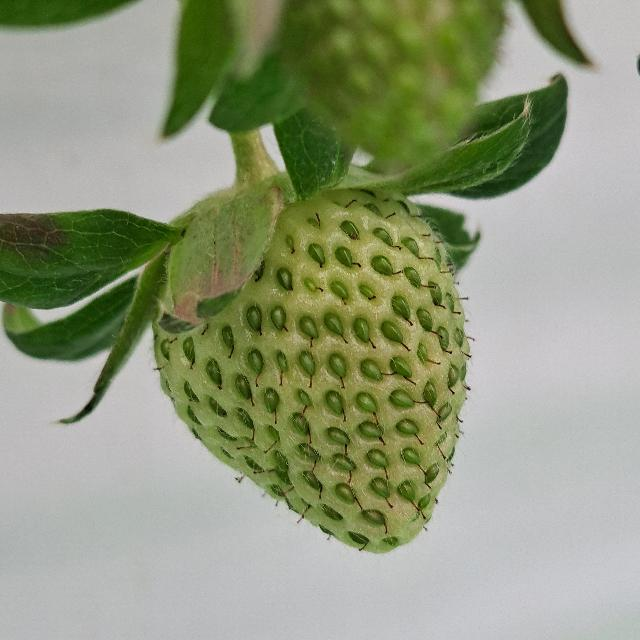Health_25: (151, 188, 469, 554)
